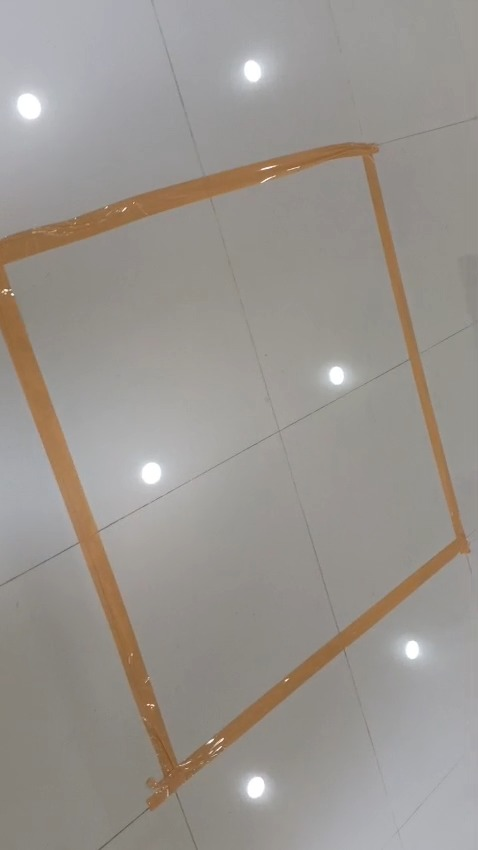floor marking: (0, 143, 469, 809)
